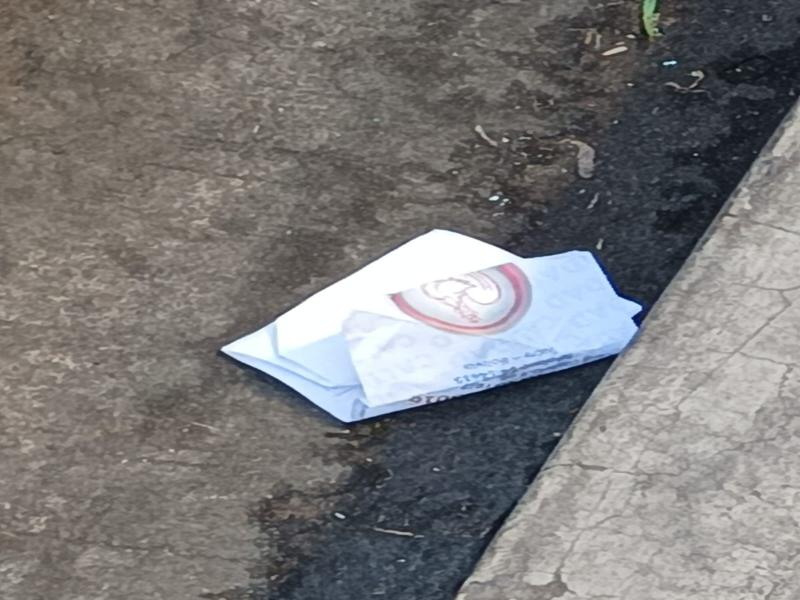papel: (222, 231, 640, 425)
